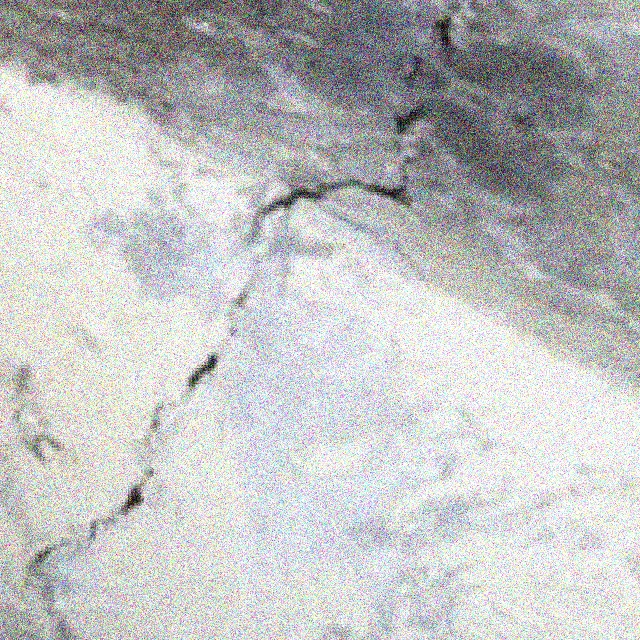SurfaceCrack: (40, 6, 478, 594)
